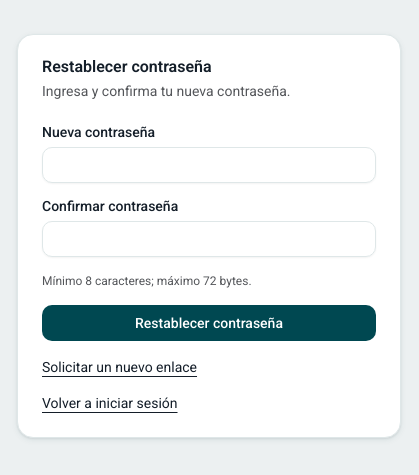
returns server failures without claiming a successful reset
In the password field labelled "Nueva contraseña": (209, 165) left=42, top=147, right=376, bottom=183, type "new-password"
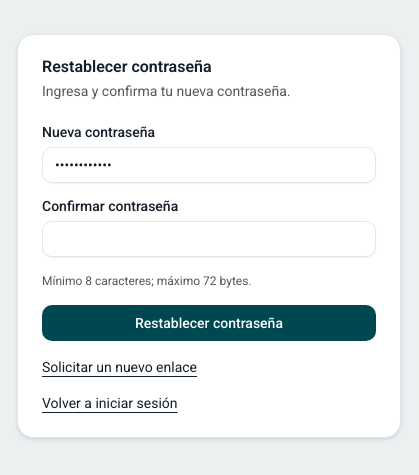
In the password field labelled "Confirmar contraseña": (209, 239) left=42, top=221, right=376, bottom=257, type "new-password"
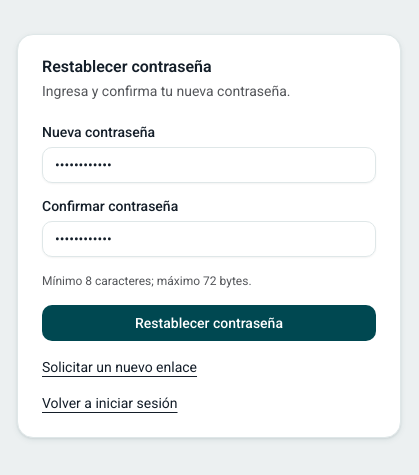
Click the button "Restablecer contraseña": click(209, 323) left=42, top=305, right=376, bottom=341
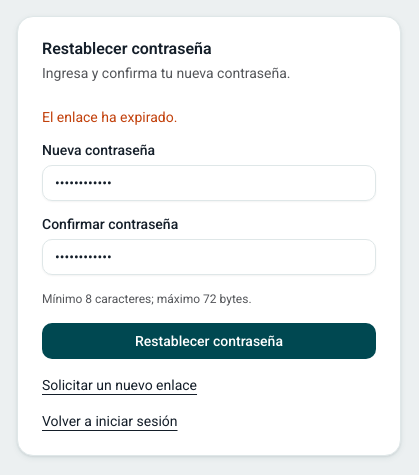
Expected: the message reads "El enlace ha expirado.", left=42, top=109, right=177, bottom=125
